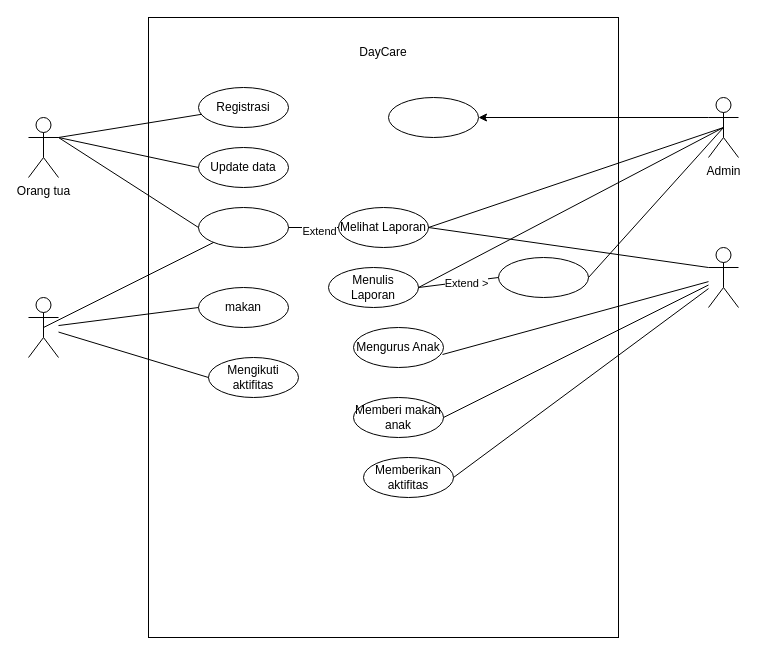
Some shapes in this 758 by 655 pixel diagram are drawn without their labels. Each missing label, with the box of its shape:
Anak: (28, 296, 58, 358)
Melakukan Kehadiran anak: (388, 96, 478, 138)
Melihat progress: (198, 206, 288, 248)
Staf: (708, 246, 738, 308)
Verifikasi Laporan: (498, 256, 588, 298)
